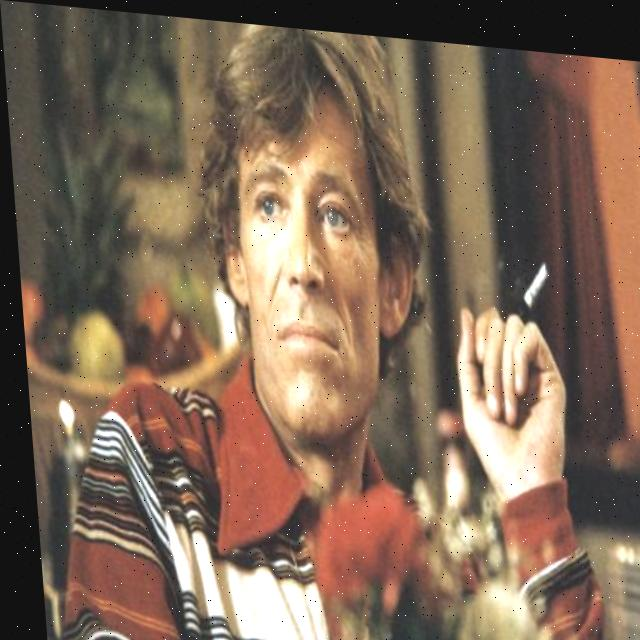cigarette: (516, 244, 547, 304)
